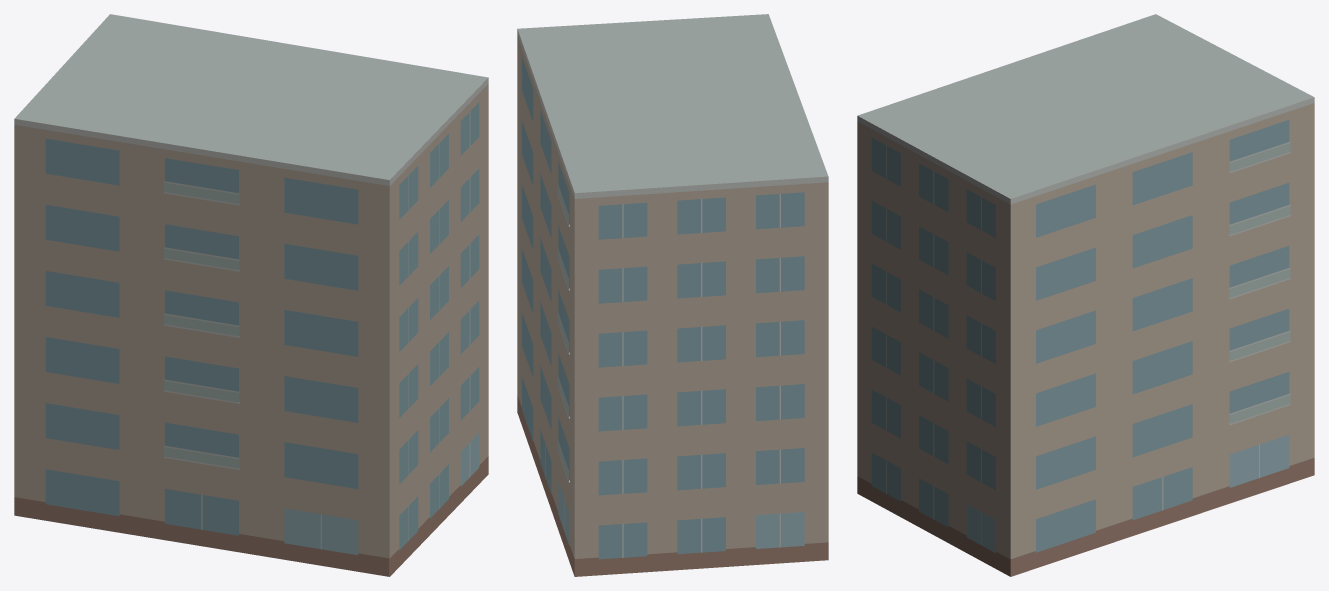
The model's file is survey-upis-32747091.glb.
3 renders of one model, left to right at view 1: azimuth 30°, elevation 25°; view 2: azimuth 150°, elevation 25°; view 3: azimuth 270°, elevation 25°, orthographic. The views are drawn at different scales.
Visible parts, largest first — view 1: survey-upis-32747091.tmp; view 2: survey-upis-32747091.tmp; view 3: survey-upis-32747091.tmp.
Part boxes in pixels (x1,y1,x2,y2): survey-upis-32747091.tmp: (14,14,488,576); survey-upis-32747091.tmp: (517,14,828,576); survey-upis-32747091.tmp: (857,14,1314,576).
Bounding box in the file's own units: 17.23 × 16.4 × 18.
